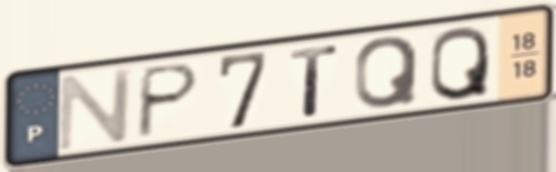7: (215, 49, 269, 131)
N: (54, 63, 137, 155)
P: (132, 60, 204, 143)
Q: (351, 33, 421, 112), (426, 22, 493, 103)
T: (287, 41, 341, 118)
